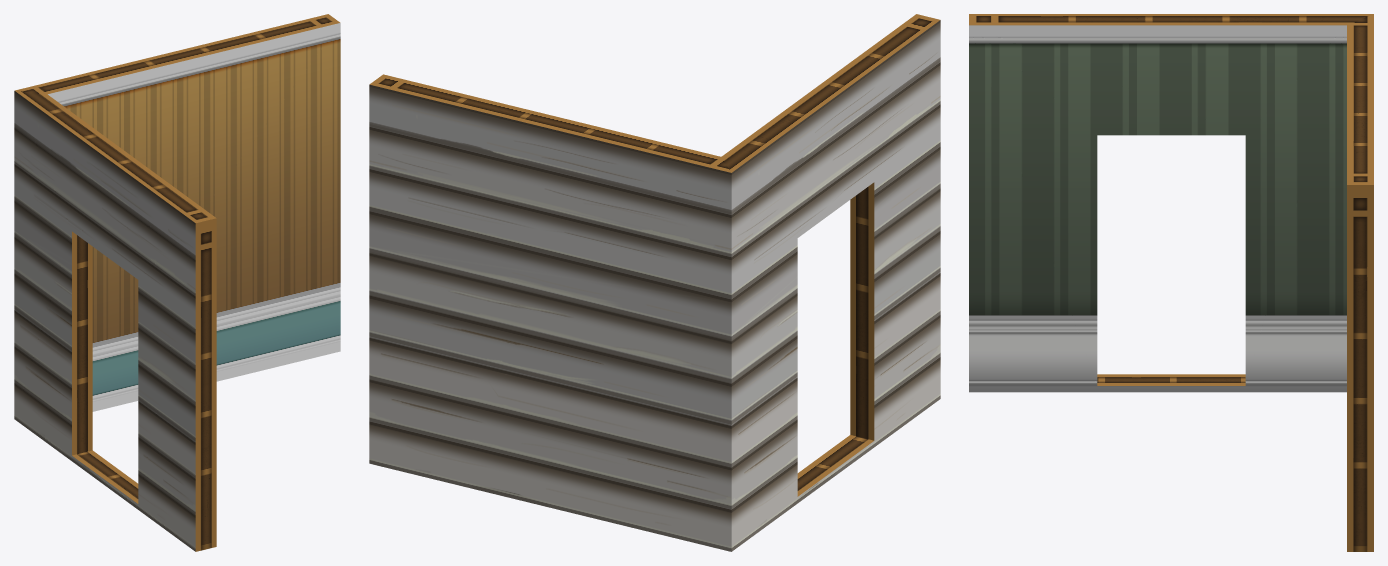
The model's file is wall01_corner_A_door.fbx.
The picture shows the model from 3 angles, left to right: view 1: azimuth 30°, elevation 25°; view 2: azimuth 150°, elevation 25°; view 3: azimuth 270°, elevation 25°; orthographic projection. The views are drawn at different scales.
Parts seen in each view (by area): view 1: wall01_corner_A_door; view 2: wall01_corner_A_door; view 3: wall01_corner_A_door.
Boxes of the visible parts, left/top/right/bottom form: wall01_corner_A_door: left=14, top=14, right=340, bottom=551; wall01_corner_A_door: left=369, top=14, right=940, bottom=551; wall01_corner_A_door: left=969, top=14, right=1373, bottom=551.
Bounding box in the file's own units: 300 × 300 × 300.
